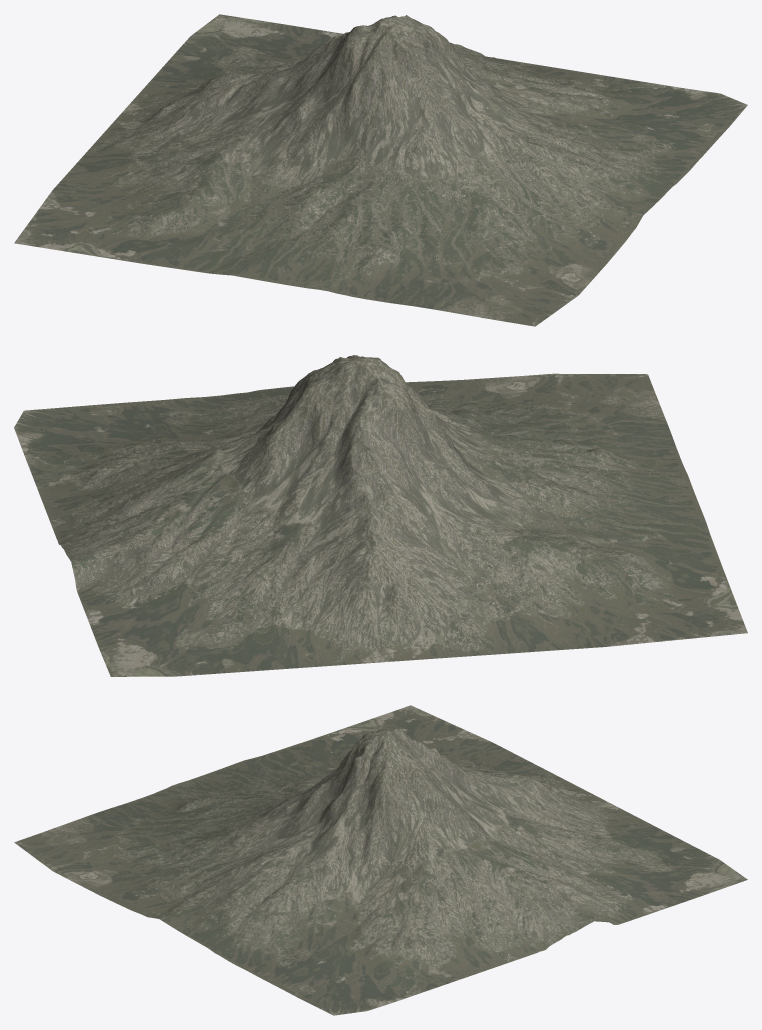
The model's file is lp_japanese mountain.fbx.
3 renders of one model, top to bottom at view 1: azimuth 30°, elevation 25°; view 2: azimuth 150°, elevation 25°; view 3: azimuth 270°, elevation 25°, orthographic. The views are drawn at different scales.
Parts seen in each view (by area): view 1: Mesher2; view 2: Mesher2; view 3: Mesher2.
Part boxes in pixels (x1,y1,x2,y2): Mesher2: (14, 14, 747, 326); Mesher2: (14, 355, 747, 676); Mesher2: (14, 705, 747, 1015).
Size of the model in its own units: 439 by 89.86 by 439.
